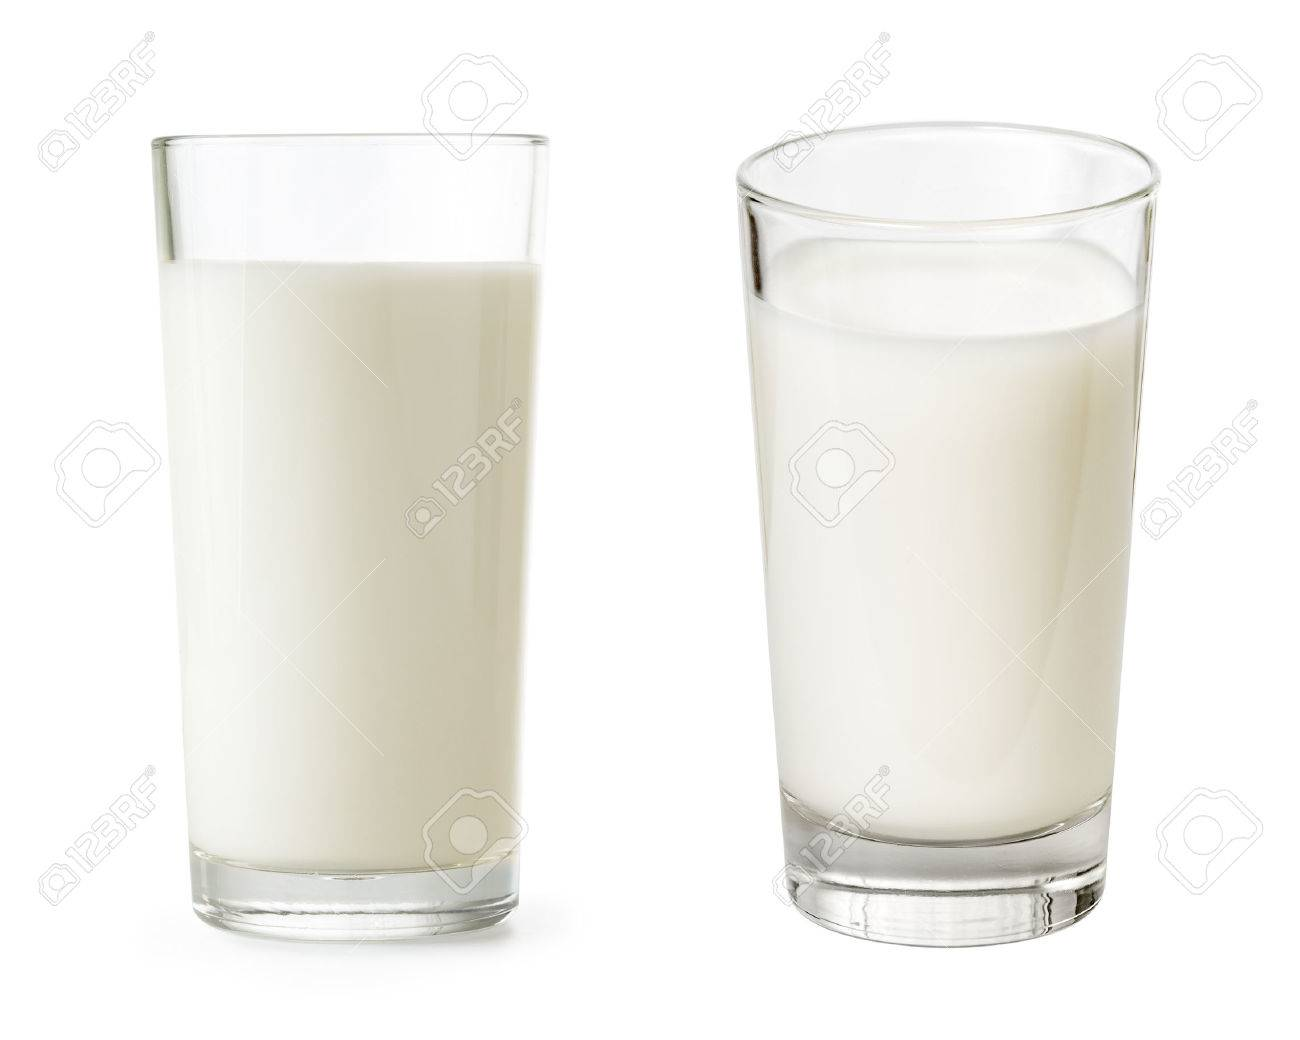glass of milk: (153, 143, 530, 930), (743, 163, 1120, 933)
